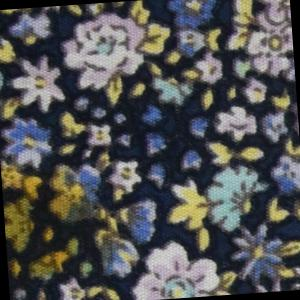Oil Stain: (1, 151, 133, 300)
